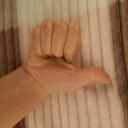ThumbsUp: (24, 17, 116, 106)
